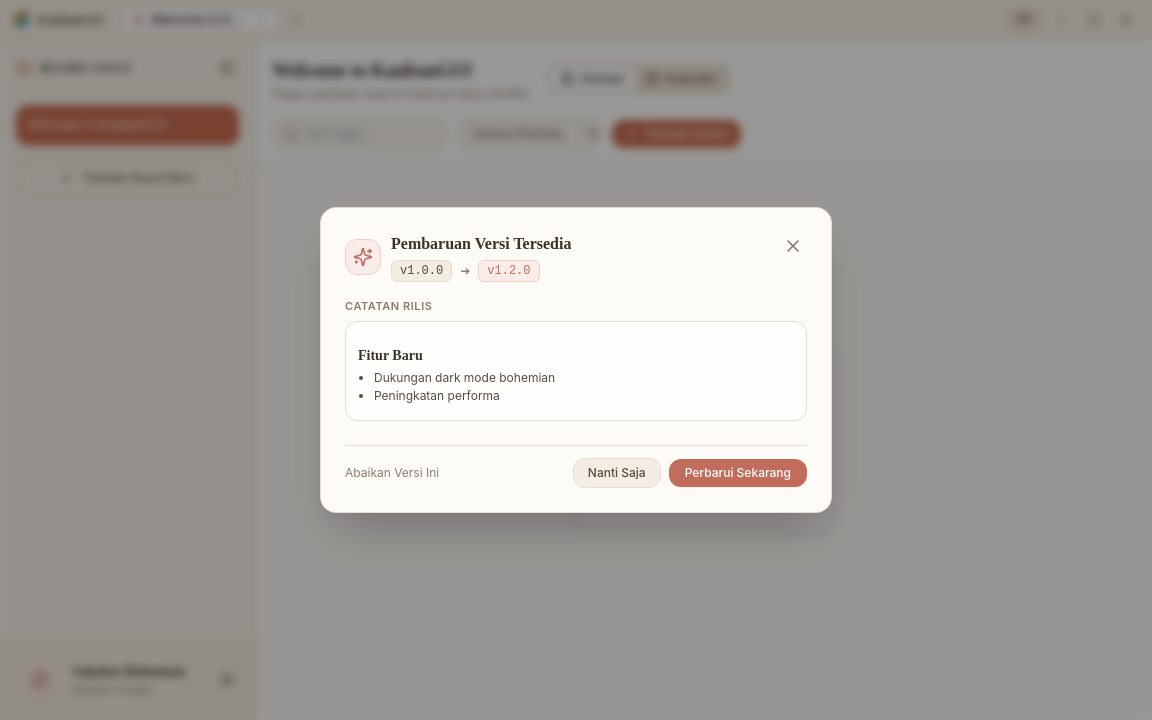
it: Auto-Updater End-to-End User Journeys › Journey 1 & 2: Detects update on startup, displays Bohemian UpdateModal, and respects "Nanti Saja"
Expected: the text "Welcome to KanbanGO!" is shown, [151, 12, 249, 28]
Expected: the heading "Pembaruan Versi Tersedia" is shown, [391, 232, 572, 256]
Click "Nanti Saja" to postpone
Click the button "Nanti Saja": click(617, 473) [573, 458, 661, 488]
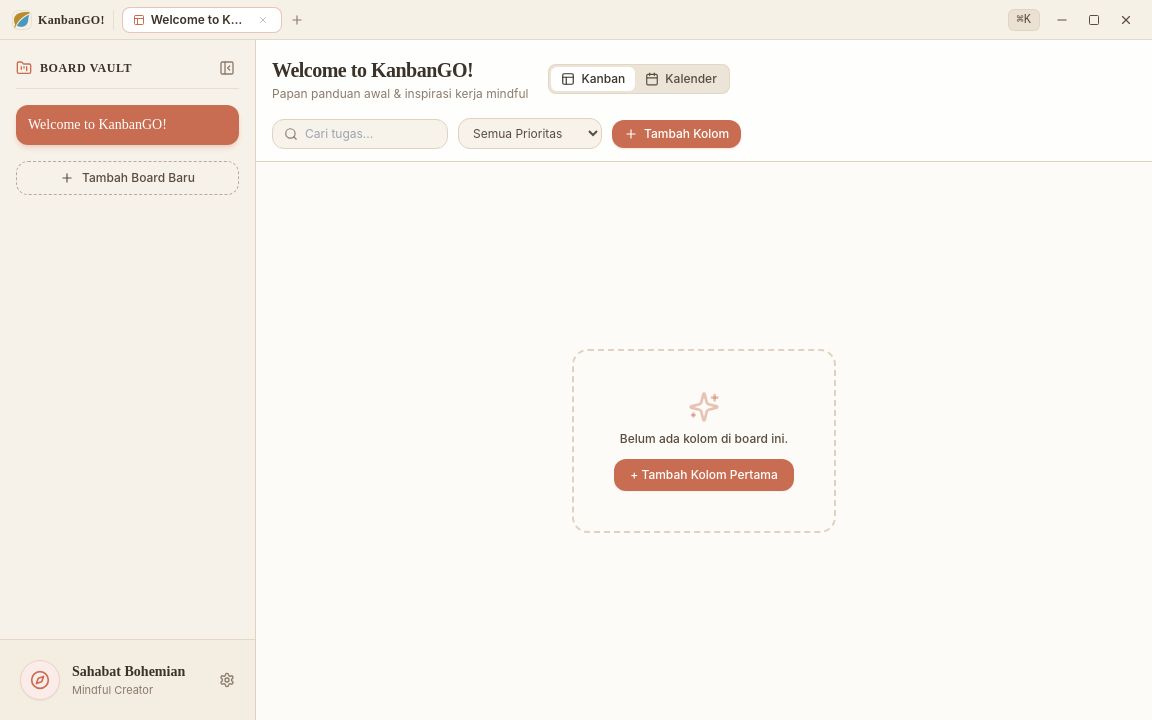
Result: the heading "Pembaruan Versi Tersedia" is gone
